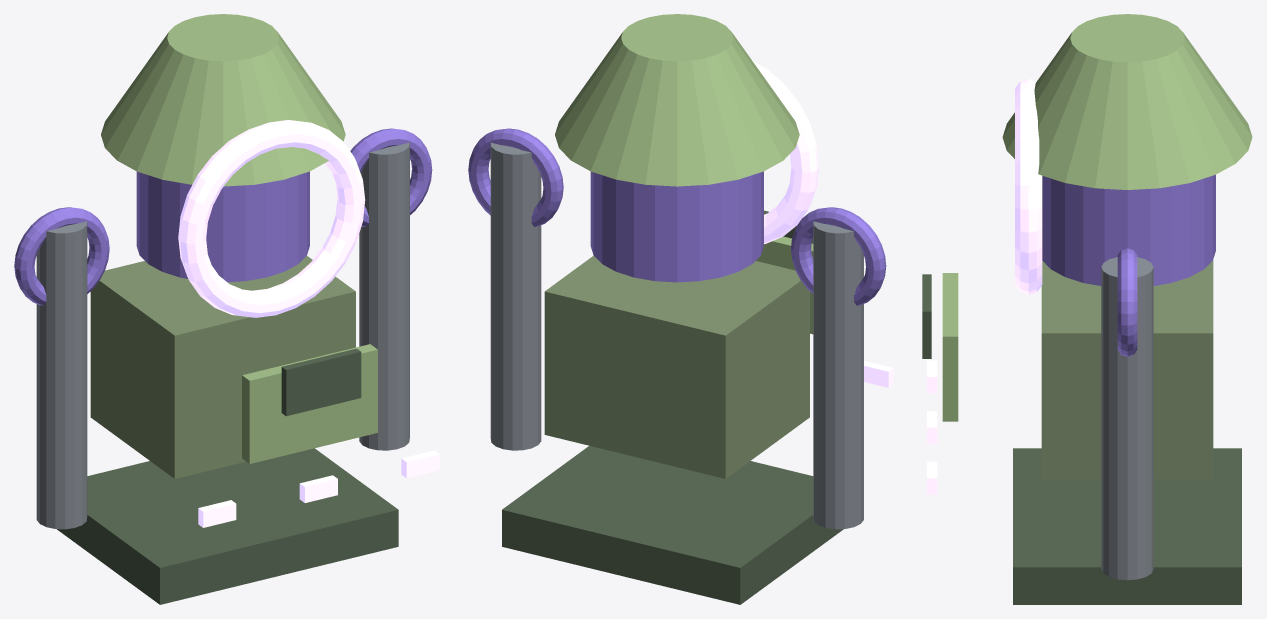
File: asset.glb
3 views of the same model, side by side, from view 1: azimuth 30°, elevation 25°; view 2: azimuth 150°, elevation 25°; view 3: azimuth 270°, elevation 25° (orthographic). The views are drawn at different scales.
Parts seen in each view (by area): view 1: Housing, Foot, TopCap, SidePost_-1, CoreHalo, Core, SidePost_1, FrontInset, ControlFace, SideRing_-1, SideRing_1, FunctionalTrim_1 (+2 smaller); view 2: Housing, Foot, TopCap, Core, SidePost_1, SidePost_-1, CoreHalo, SideRing_-1, SideRing_1, FrontInset, FunctionalTrim_0; view 3: TopCap, Foot, Housing, SidePost_1, Core, CoreHalo, FrontInset, SideRing_1, ControlFace.
Boxes of the visible parts, x1,y1,x2,y2 form: Housing: [90, 256, 355, 478]; Foot: [57, 448, 398, 604]; TopCap: [101, 14, 345, 186]; SidePost_-1: [36, 216, 87, 529]; CoreHalo: [178, 120, 365, 317]; Core: [136, 171, 309, 282]; SidePost_1: [359, 137, 409, 450]; FrontInset: [242, 344, 377, 463]; ControlFace: [281, 348, 361, 416]; SideRing_-1: [14, 207, 109, 305]; SideRing_1: [350, 128, 432, 226]; FunctionalTrim_1: [299, 475, 337, 502]; Housing: [544, 255, 809, 478]; Foot: [502, 446, 843, 604]; TopCap: [555, 14, 799, 186]; Core: [590, 171, 763, 282]; SidePost_1: [490, 137, 541, 450]; SidePost_-1: [813, 216, 863, 529]; CoreHalo: [752, 60, 819, 244]; SideRing_-1: [791, 207, 886, 305]; SideRing_1: [468, 128, 563, 226]; FrontInset: [756, 236, 813, 334]; FunctionalTrim_0: [864, 361, 893, 387]; TopCap: [1002, 14, 1252, 189]; Foot: [1013, 448, 1241, 604]; Housing: [1041, 260, 1213, 479]; SidePost_1: [1101, 257, 1153, 580]; Core: [1042, 174, 1215, 285]; CoreHalo: [1015, 79, 1042, 294]; FrontInset: [942, 273, 958, 421]; SideRing_1: [1117, 248, 1137, 356]; ControlFace: [922, 274, 931, 358].
Bounding box in the file's own units: 1.88 × 2.15 × 1.27.
